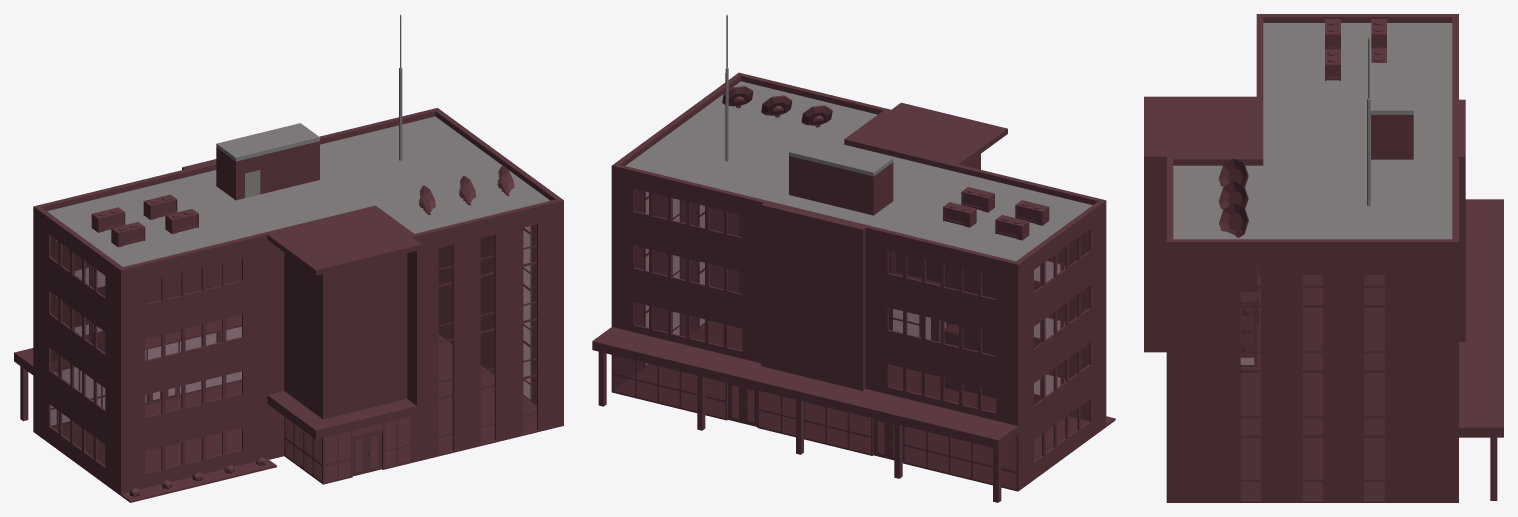
File: data-center.fbx
3 renders of one model, left to right at view 1: azimuth 30°, elevation 25°; view 2: azimuth 150°, elevation 25°; view 3: azimuth 270°, elevation 25°, orthographic. The views are drawn at different scales.
Parts seen in each view (by area): view 1: data-center; view 2: data-center; view 3: data-center.
Boxes of the visible parts, x1,y1,x2,y2 form: data-center: [14, 14, 563, 502]; data-center: [592, 14, 1115, 502]; data-center: [1144, 14, 1503, 502].
Bounding box in the file's own units: 24 × 20.79 × 16.
